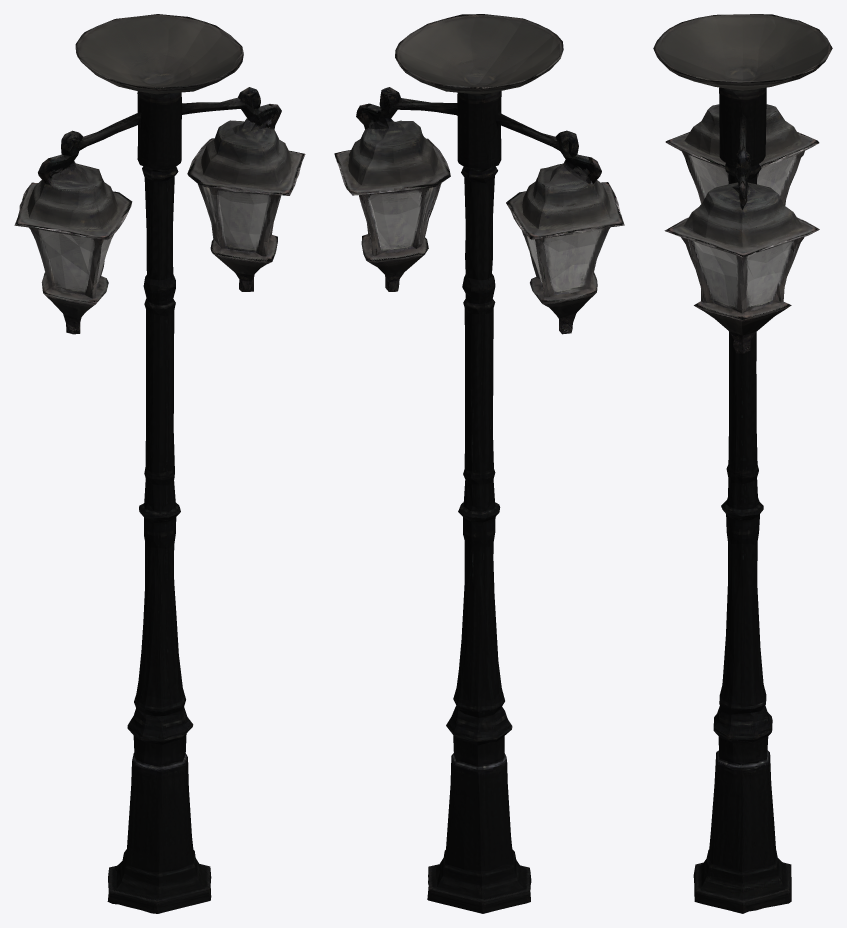
Rendered from den_duong_3.glb.
3 views of the same model, side by side, from view 1: azimuth 30°, elevation 25°; view 2: azimuth 150°, elevation 25°; view 3: azimuth 270°, elevation 25° (orthographic).
Parts seen in each view (by area): view 1: world; view 2: world; view 3: world.
Boxes of the visible parts, bbox=[...] form: world: bbox=[14, 14, 305, 913]; world: bbox=[334, 14, 624, 913]; world: bbox=[653, 14, 832, 913].
Size of the model in its own units: 0.3629 by 1 by 0.1934.
Materials: 1 (1 with a texture image).
